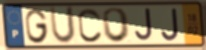C: (77, 7, 104, 44)
G: (24, 7, 50, 45)
J: (160, 7, 181, 42), (134, 7, 154, 43)
O: (102, 7, 132, 44)
U: (48, 5, 77, 46)
